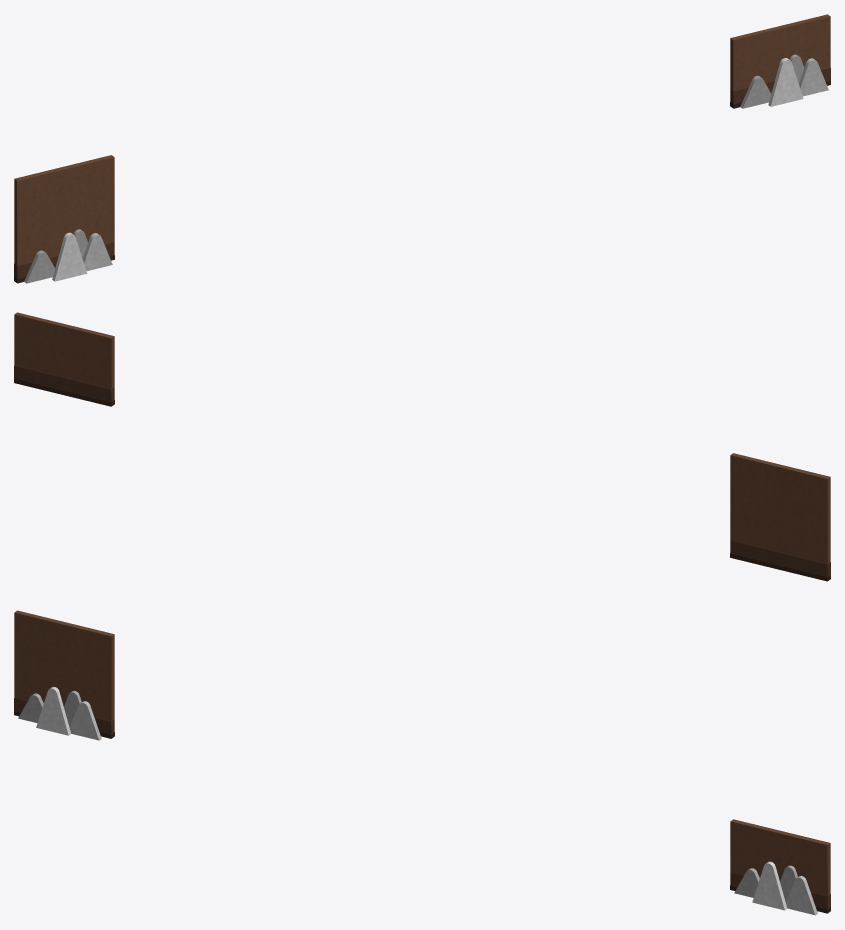
File: ravijn_level2.glb
3 views of the same model, one above another, from view 1: azimuth 30°, elevation 25°; view 2: azimuth 150°, elevation 25°; view 3: azimuth 330°, elevation 25° (orthographic).
Visible parts, largest first — view 1: ravijn_L2_01, ravijn_L2_02; view 2: ravijn_L2_01, ravijn_L2_02; view 3: ravijn_L2_01, ravijn_L2_02.
Part boxes in pixels (box(x1,y1,x2,y2)): ravijn_L2_01: box(14, 155, 114, 283); ravijn_L2_02: box(730, 14, 830, 108); ravijn_L2_01: box(730, 453, 830, 581); ravijn_L2_02: box(14, 312, 114, 406); ravijn_L2_01: box(14, 610, 114, 740); ravijn_L2_02: box(730, 819, 830, 915).
Size of the model in its own units: 29.99 by 3.61 by 0.703.
6 materials, 6 textured.
